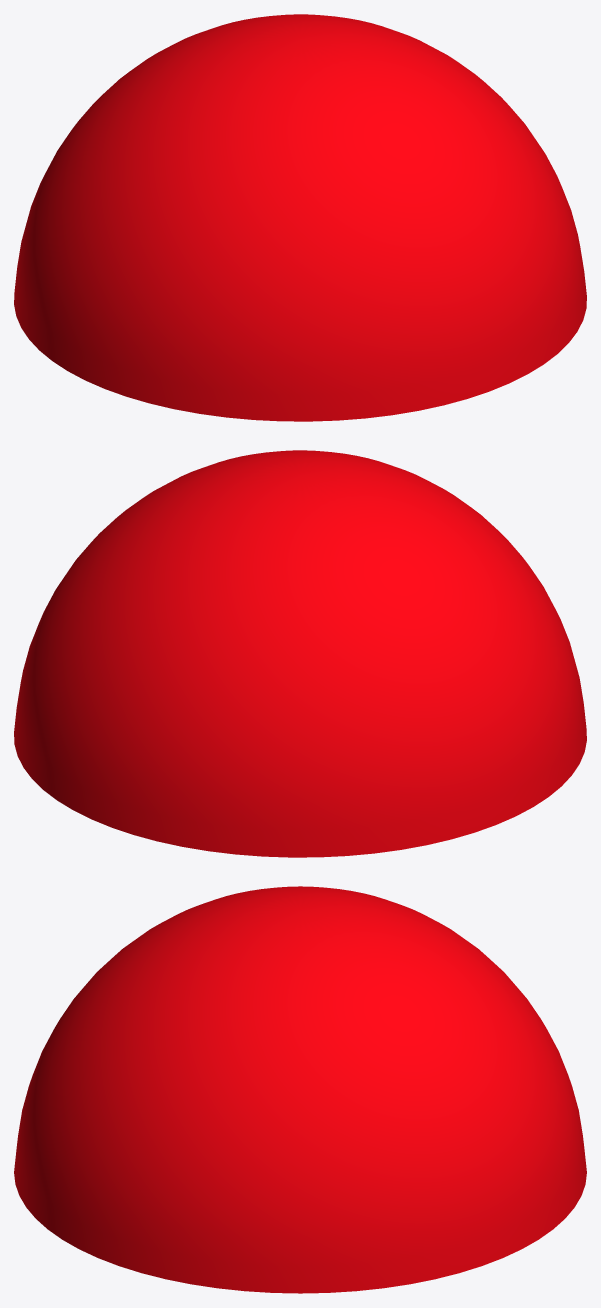
The model's file is pokearriba.obj.
3 renders of one model, top to bottom at view 1: azimuth 30°, elevation 25°; view 2: azimuth 150°, elevation 25°; view 3: azimuth 270°, elevation 25°, orthographic.
Parts seen in each view (by area): view 1: polySurface1 Sphere001; view 2: polySurface1 Sphere001; view 3: polySurface1 Sphere001.
Part boxes in pixels (bbox=[...]): polySurface1 Sphere001: bbox=[14, 14, 586, 421]; polySurface1 Sphere001: bbox=[14, 450, 586, 857]; polySurface1 Sphere001: bbox=[14, 886, 586, 1293].
Bounding box in the file's own units: 2.84 × 1.43 × 2.84.
